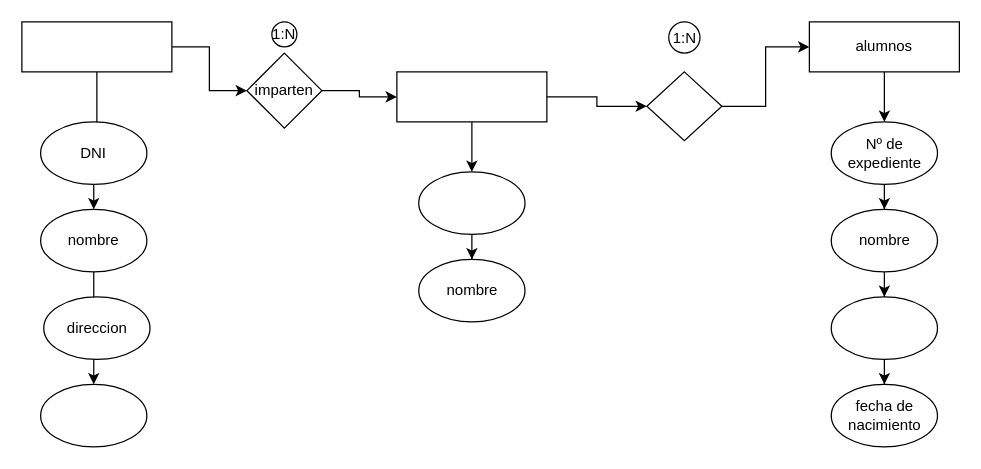
The diagram is 981 pixels wide and 469 high, and some of its shapes have lost their labels. The box of each missing label's shape, as (x1, y1, x2, y2) in pixels:
apellidos: (830, 296, 938, 359)
Codigo: (418, 171, 525, 234)
matriculado: (646, 71, 722, 141)
modulos: (396, 71, 547, 122)
profesores: (21, 21, 172, 72)
teléfono: (39, 383, 147, 447)
